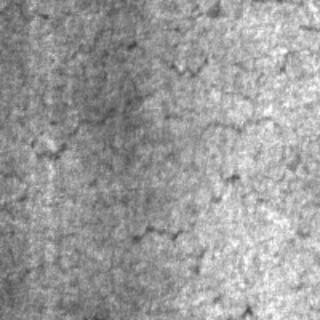crazing: (26, 25, 204, 162), (124, 132, 292, 270)
